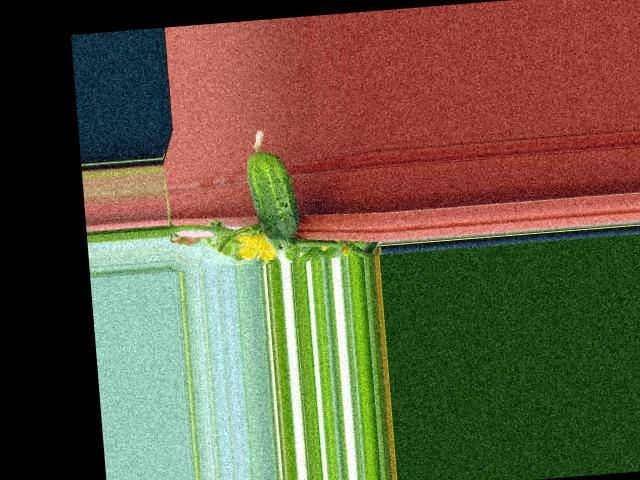cucumber: (243, 126, 300, 242)
